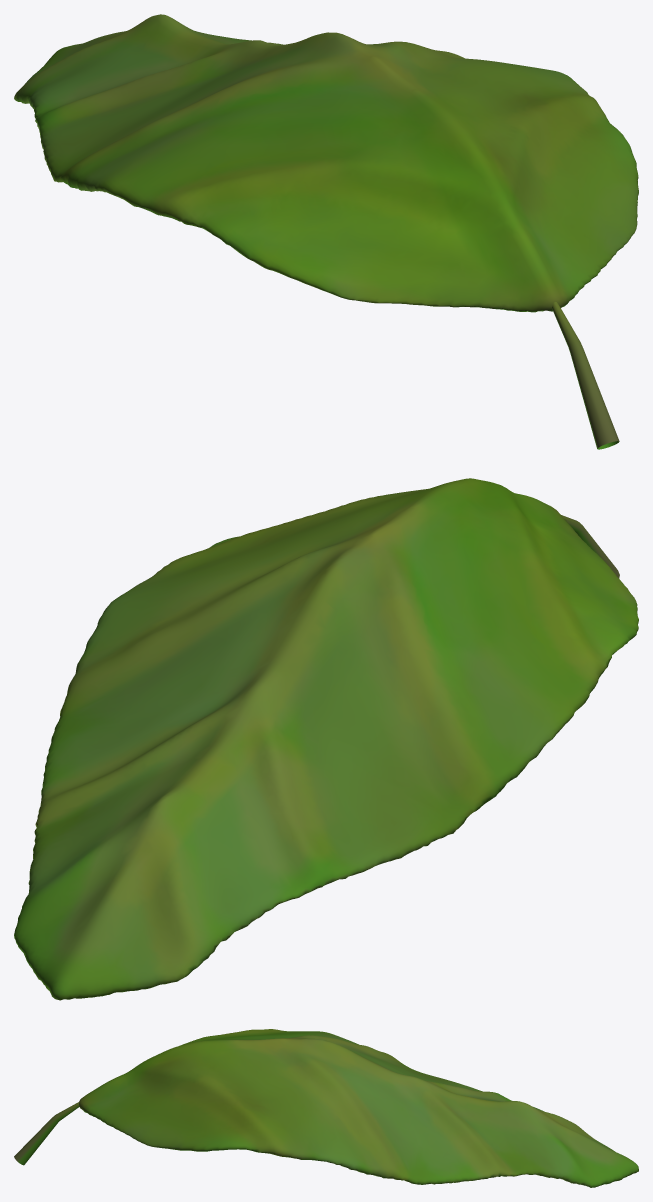
File: leaf.gltf
The picture shows the model from 3 angles, top to bottom: view 1: azimuth 30°, elevation 25°; view 2: azimuth 150°, elevation 25°; view 3: azimuth 270°, elevation 25°; orthographic projection. The views are drawn at different scales.
Parts seen in each view (by area): view 1: Leaf; view 2: Leaf; view 3: Leaf.
Boxes of the visible parts, x1,y1,x2,y2 form: Leaf: [14, 14, 638, 449]; Leaf: [14, 478, 638, 1000]; Leaf: [14, 1029, 638, 1187].
Size of the model in its own units: 1.09 by 0.5317 by 2.27.
